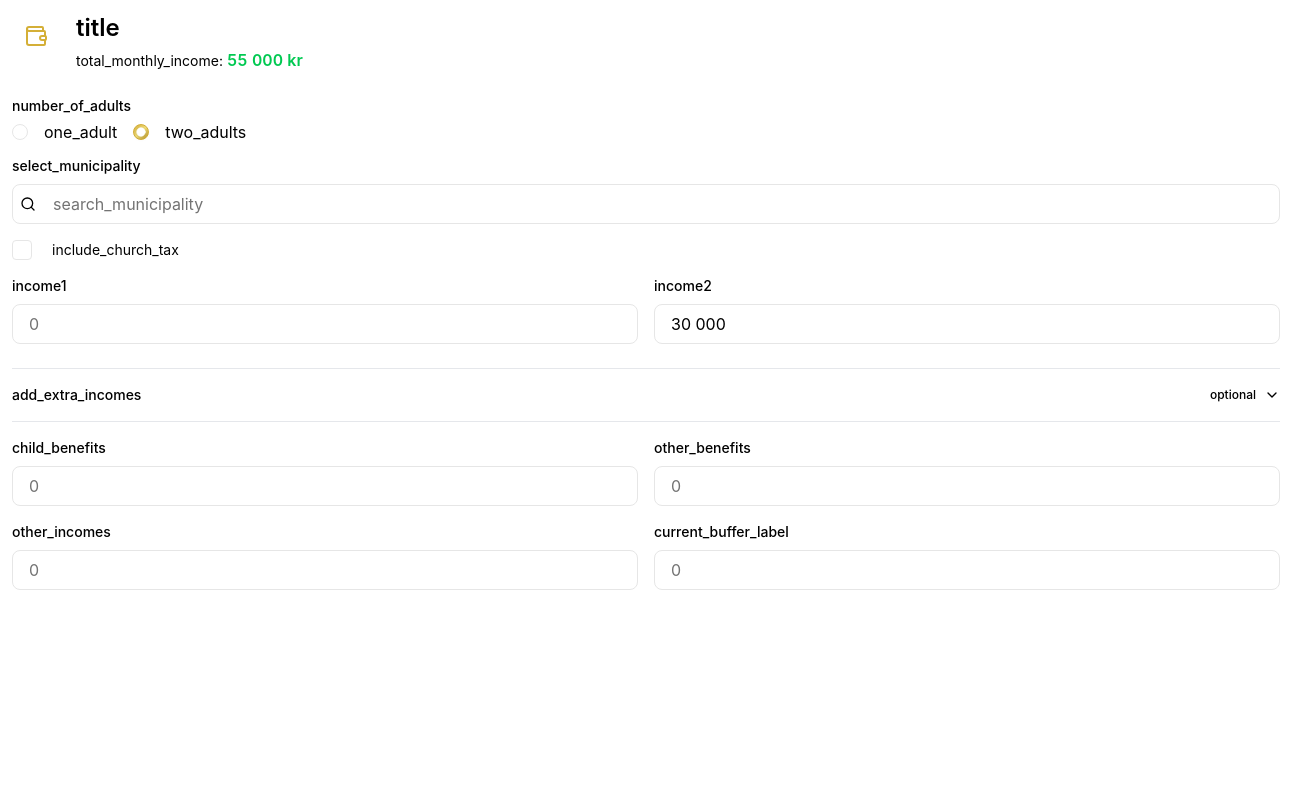
Test case: Income › clears income2 and income4 values when switching from 2 to 1 adult
Note: Fill in income2 and income4
Replace the text in the field named "income2_aria" with "30000" at (967, 324), box [654, 304, 1280, 344]
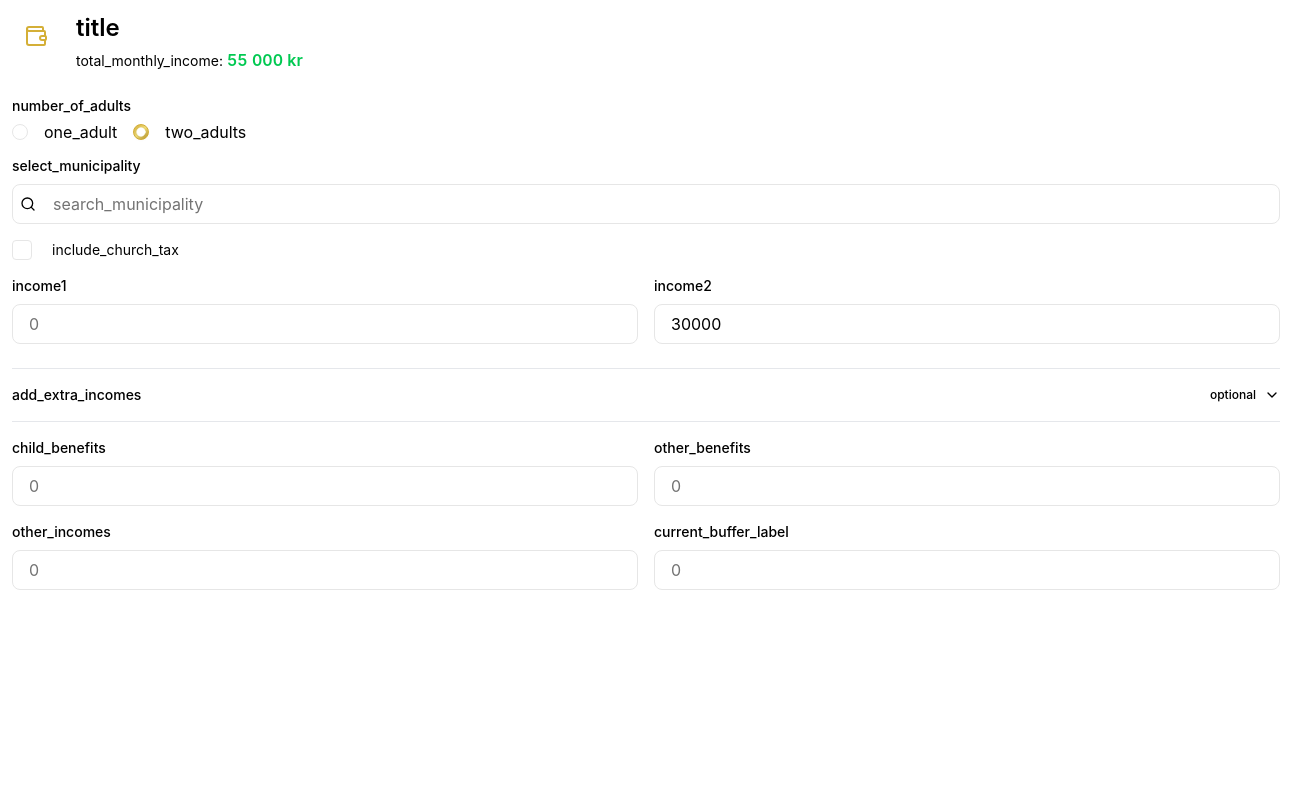
Note: Expand extra incomes
Click the text "add_extra_incomes" at (77, 395), box [12, 385, 141, 405]
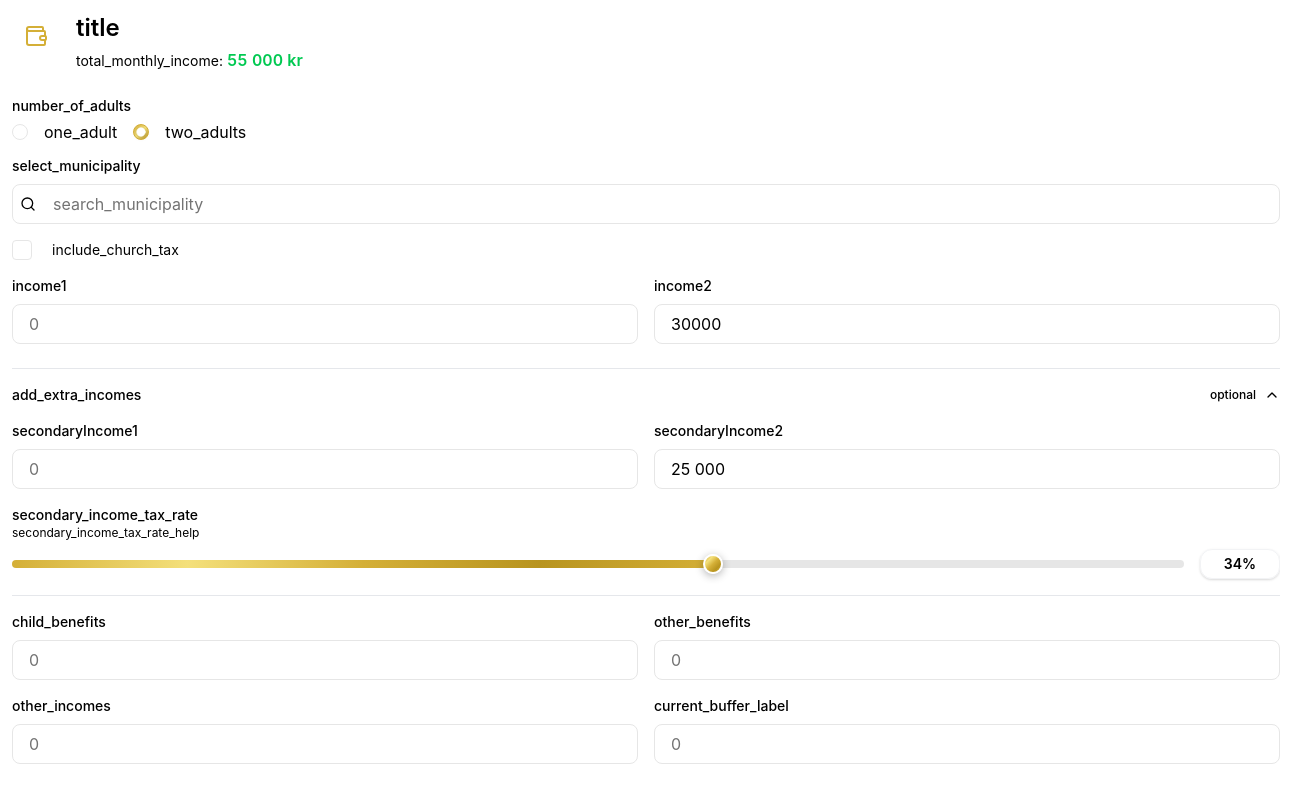
Replace the text in the field named "secondaryIncome2_aria" with "25000" at (967, 469), box [654, 449, 1280, 489]
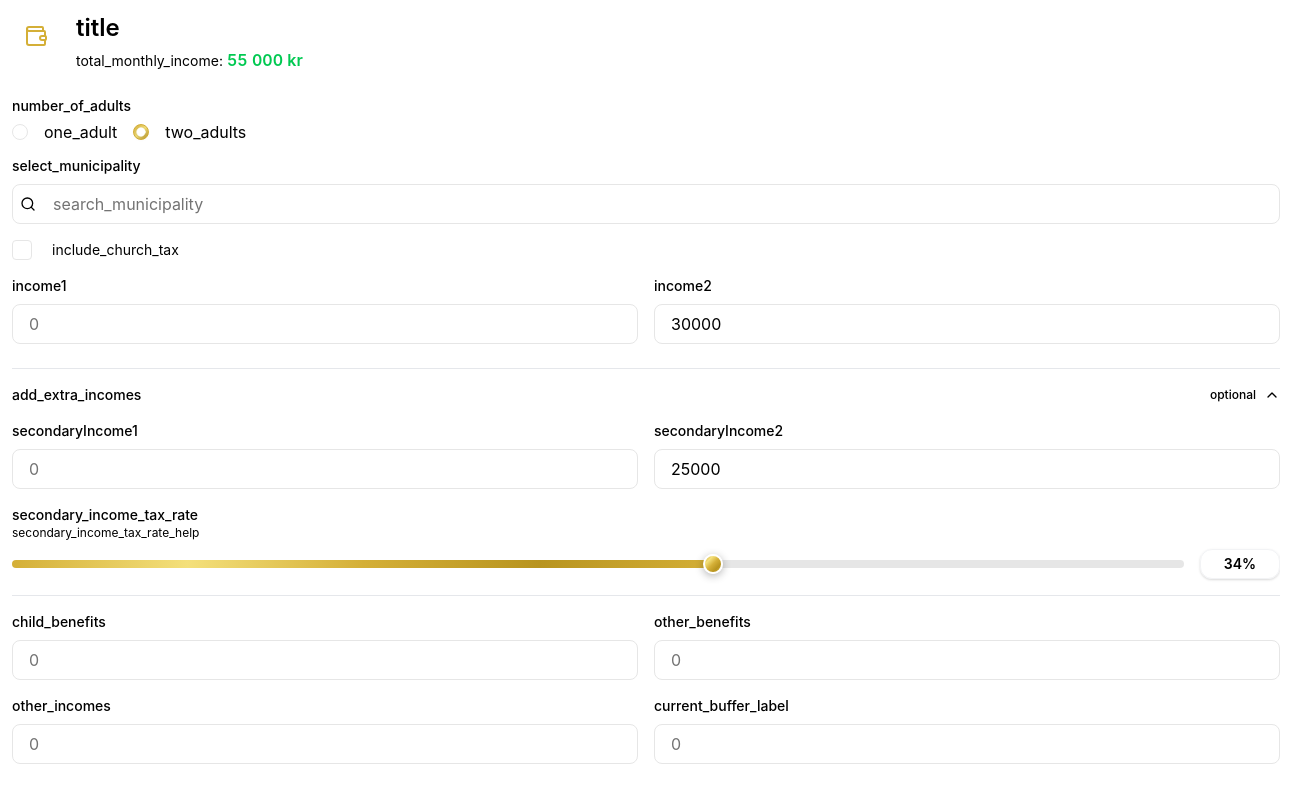
Note: Switch back to 1 adult
Click the radio button named "one_adult" next to "one_adult" at (20, 132), box [12, 124, 28, 140]
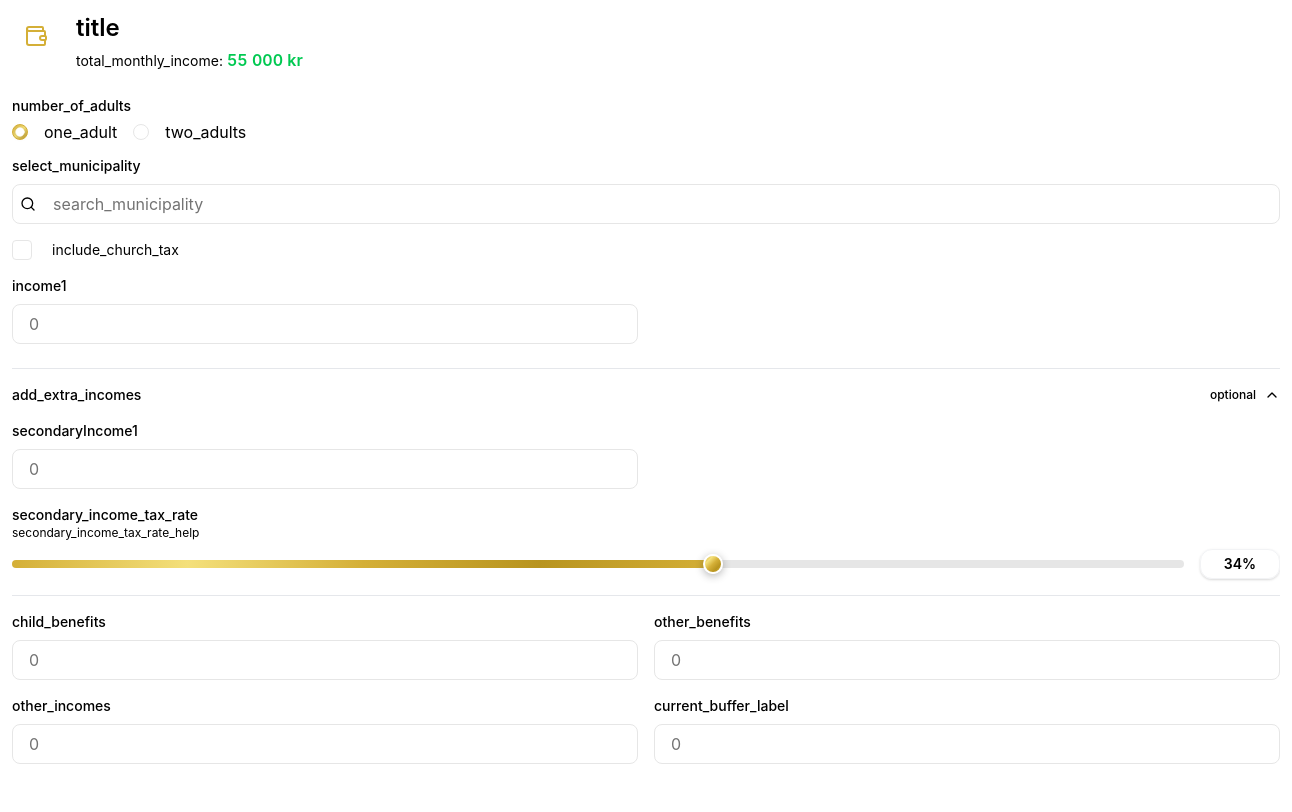
Expected: no fields labelled "income2_aria" are shown
Expected: no fields labelled "secondaryIncome2_aria" are shown
